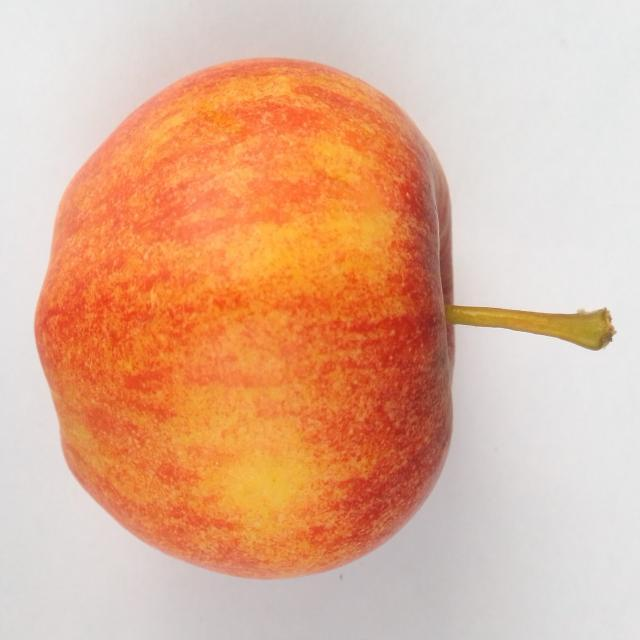Fresh Apple: (33, 63, 462, 595)
